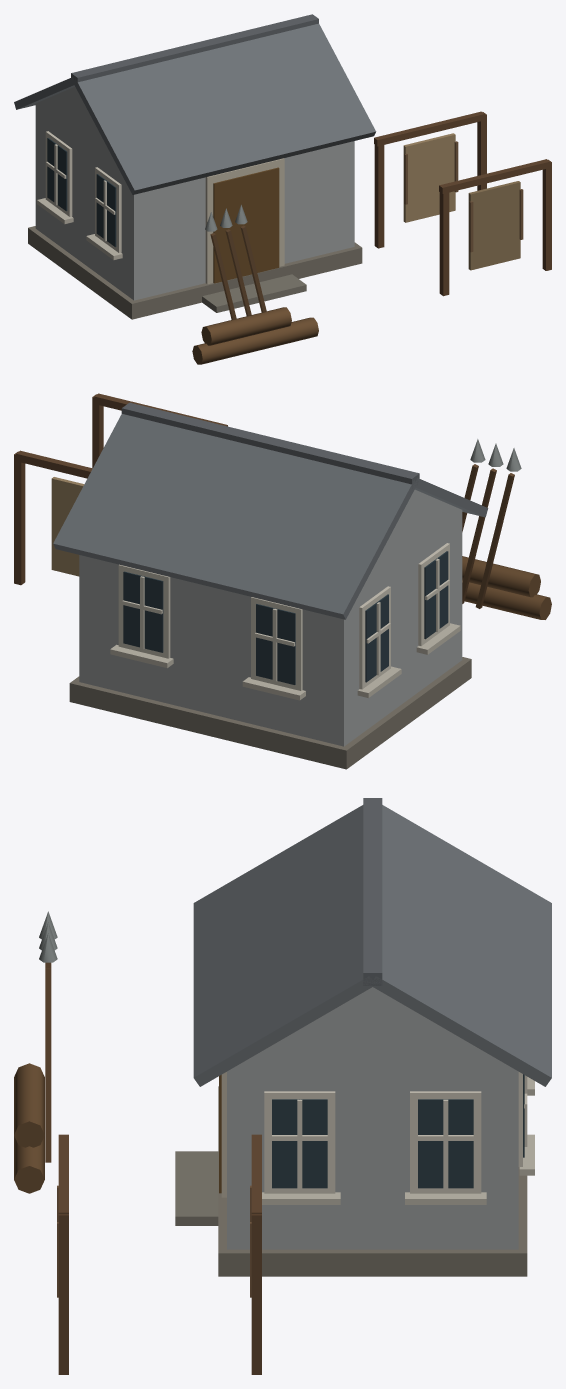
The model's file is procedural_hunter@6.glb.
3 renders of one model, top to bottom at view 1: azimuth 30°, elevation 25°; view 2: azimuth 150°, elevation 25°; view 3: azimuth 270°, elevation 25°, orthographic. The views are drawn at different scales.
Parts seen in each view (by area): view 1: part_0; view 2: part_0; view 3: part_0.
Boxes of the visible parts, x1=… form: part_0: x1=14, y1=14, x2=551, y2=364; part_0: x1=14, y1=393, x2=551, y2=769; part_0: x1=14, y1=798, x2=551, y2=1374.
Size of the model in its own units: 7.42 by 3.96 by 6.27.
